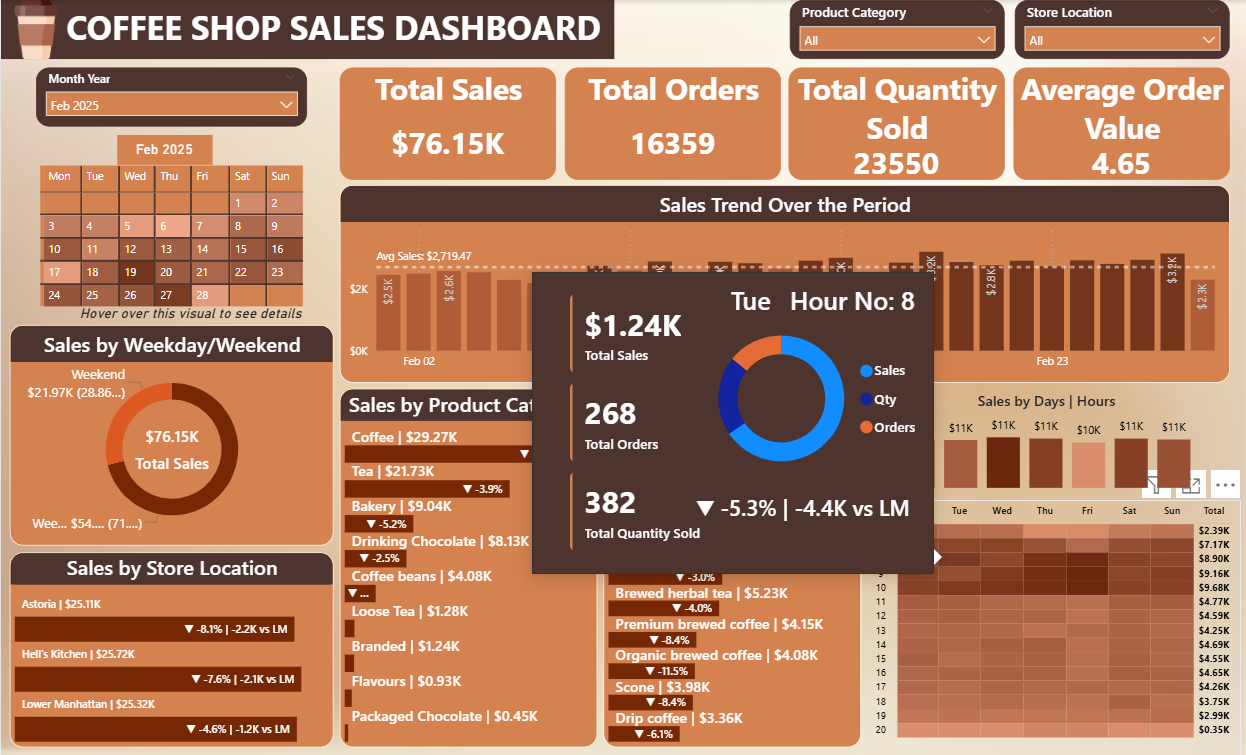

Layout of this report page (visuals, bound fields, positions):
{"tool":"powerbi","page":{"name":"Page 1","canvas":[1400,850],"ordinal":0},"visuals":[{"type":"textbox","box":[0,0,689.9,66.7],"z":0},{"type":"image","box":[0,0,79.7,66.7],"z":1000},{"type":"slicer","fields":{"Values":["Date Table.Month Year"]},"box":[39.4,75.9,305,66.1],"z":2000},{"type":"card","title":"Total Sales","fields":{"Values":["Coffee Shop Sales.Total Sales"]},"box":[380.9,75.9,243,126.5],"z":3000},{"type":"card","title":"Total Orders","fields":{"Values":["Coffee Shop Sales.Total Orders"]},"box":[633.4,75.9,243,126.5],"z":4000},{"type":"card","title":"Total Quantity Sold","fields":{"Values":["Coffee Shop Sales.Total Quantity Sold"]},"box":[885.9,75.9,243,126.5],"z":5000},{"type":"card","fields":{"Values":["Min(Date Table.Month Year)"]},"box":[130.7,151.8,106.8,33.7],"z":6000},{"type":"pivotTable","fields":{"Rows":["Date Table.Week Number"],"Columns":["Date Table.Day Name"],"Values":["Min(Date Table.Day Number)"]},"box":[39.8,181.3,314,185.2],"z":6000,"group":"g1"},{"type":"donutChart","title":"Sales by Weekday/Weekend","fields":{"Category":["Date Table.Weekday/Weekend"],"Y":["Coffee Shop Sales.Total Sales"]},"box":[9.8,365.4,364.3,248.4],"z":7000,"group":"g2"},{"type":"clusteredBarChart","title":"Sales by Store Location","fields":{"Category":["Coffee Shop Sales.store_location"],"Y":["Coffee Shop Sales.Placeholder","Coffee Shop Sales.Total Sales"]},"box":[9.8,621.2,364,219.2],"z":7000},{"type":"group","id":"g1","title":"Group 1","box":[39.8,181.3,316,186.9],"z":8000},{"type":"card","fields":{"Values":["Coffee Shop Sales.Foot Note"]},"box":[72.1,338.7,283.7,29.5],"z":8000,"group":"g1"},{"type":"card","fields":{"Values":["Coffee Shop Sales.Total Sales"]},"box":[136.4,472.5,112.5,62.1],"z":8000,"group":"g2"},{"type":"group","id":"g2","title":"Group 2","box":[9.8,365.4,364,248.8],"z":9000},{"type":"columnChart","title":"Sales Trend Over the Period","fields":{"Category":["Coffee Shop Sales.transaction_date"],"Y":["Coffee Shop Sales.Total Sales"]},"box":[380.9,208,1000.7,222.1],"z":10000},{"type":"clusteredBarChart","title":"Sales by Product Category","fields":{"Y":["Coffee Shop Sales.Placeholder","Coffee Shop Sales.Total Sales"],"Category":["Coffee Shop Sales.product_category"]},"box":[380.9,437.1,289.5,403.4],"z":11000},{"type":"slicer","fields":{"Values":["Coffee Shop Sales.product_category"]},"box":[886.8,0,241.7,66.1],"z":12000},{"type":"card","title":"Average Order Value","fields":{"Values":["Coffee Shop Sales.Average Order Value"]},"box":[1138.4,75.9,243.1,126.5],"z":13000},{"type":"slicer","fields":{"Values":["Coffee Shop Sales.store_location"]},"box":[1139.8,0,241.7,66.1],"z":14000},{"type":"clusteredBarChart","title":"Sales by Product (Top 10)","fields":{"Y":["Coffee Shop Sales.Placeholder","Coffee Shop Sales.Total Sales"],"Category":["Coffee Shop Sales.product_type"]},"box":[677.4,437.1,289.5,403.4],"z":15000},{"type":"pivotTable","fields":{"Rows":["Coffee Shop Sales.Hour"],"Columns":["Date Table.Day Name"],"Values":["Coffee Shop Sales.Total Sales"]},"box":[966.9,562.2,427.3,288.1],"z":16000},{"type":"columnChart","title":"Sales by Days | Hours","fields":{"Category":["Date Table.Day Name"],"Y":["Coffee Shop Sales.Total Sales"]},"box":[1007.7,438.5,335.9,116],"z":17000}]}

Visuals, with their boxes in screenshot pixels (x1, y1, x2, y2), scaled from the page's 1400x850 canvas onto the 1246x755 screenshot:
textbox: bbox=[0, 0, 614, 59]
image: bbox=[0, 0, 71, 59]
slicer - Date Table.Month Year: bbox=[35, 67, 307, 126]
"Total Sales" card: bbox=[339, 67, 555, 180]
"Total Orders" card: bbox=[564, 67, 780, 180]
"Total Quantity Sold" card: bbox=[788, 67, 1005, 180]
card - Min(Date Table.Month Year): bbox=[116, 135, 211, 165]
pivotTable - Date Table.Week Number x Date Table.Day Name: bbox=[35, 161, 315, 326]
"Sales by Weekday/Weekend" donutChart: bbox=[9, 325, 333, 545]
"Sales by Store Location" clusteredBarChart: bbox=[9, 552, 333, 746]
"Group 1" group: bbox=[35, 161, 317, 327]
card - Coffee Shop Sales.Foot Note: bbox=[64, 301, 317, 327]
card - Coffee Shop Sales.Total Sales: bbox=[121, 420, 222, 475]
"Group 2" group: bbox=[9, 325, 333, 546]
"Sales Trend Over the Period" columnChart: bbox=[339, 185, 1230, 382]
"Sales by Product Category" clusteredBarChart: bbox=[339, 388, 597, 747]
slicer - Coffee Shop Sales.product_category: bbox=[789, 0, 1004, 59]
"Average Order Value" card: bbox=[1013, 67, 1230, 180]
slicer - Coffee Shop Sales.store_location: bbox=[1014, 0, 1230, 59]
"Sales by Product (Top 10)" clusteredBarChart: bbox=[603, 388, 861, 747]
pivotTable - Coffee Shop Sales.Hour x Date Table.Day Name: bbox=[861, 499, 1241, 754]
"Sales by Days | Hours" columnChart: bbox=[897, 389, 1196, 493]
